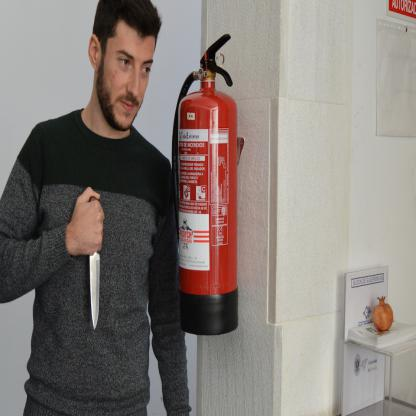knife: (83, 191, 106, 334)
